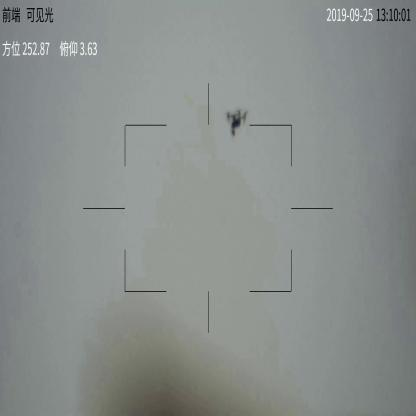uav: (225, 108, 251, 139)
